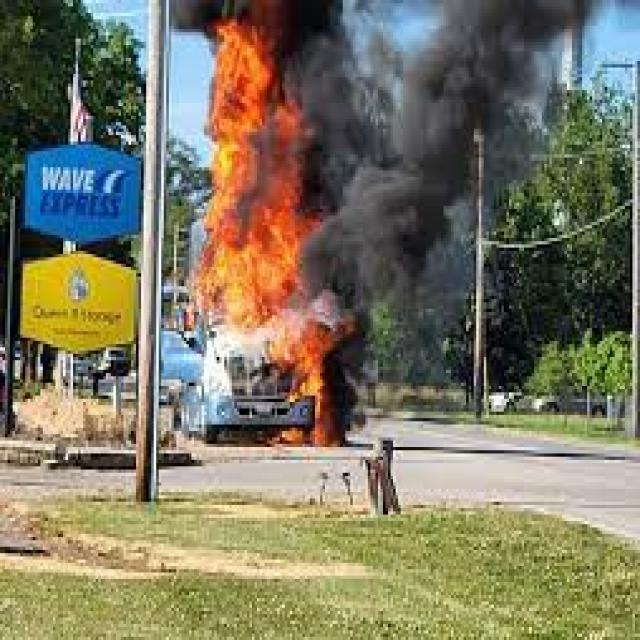fire: (192, 22, 302, 318), (264, 325, 352, 450)
smoke: (308, 3, 632, 290)
